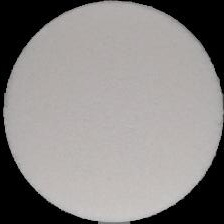61919-349: (0, 0, 224, 224)
